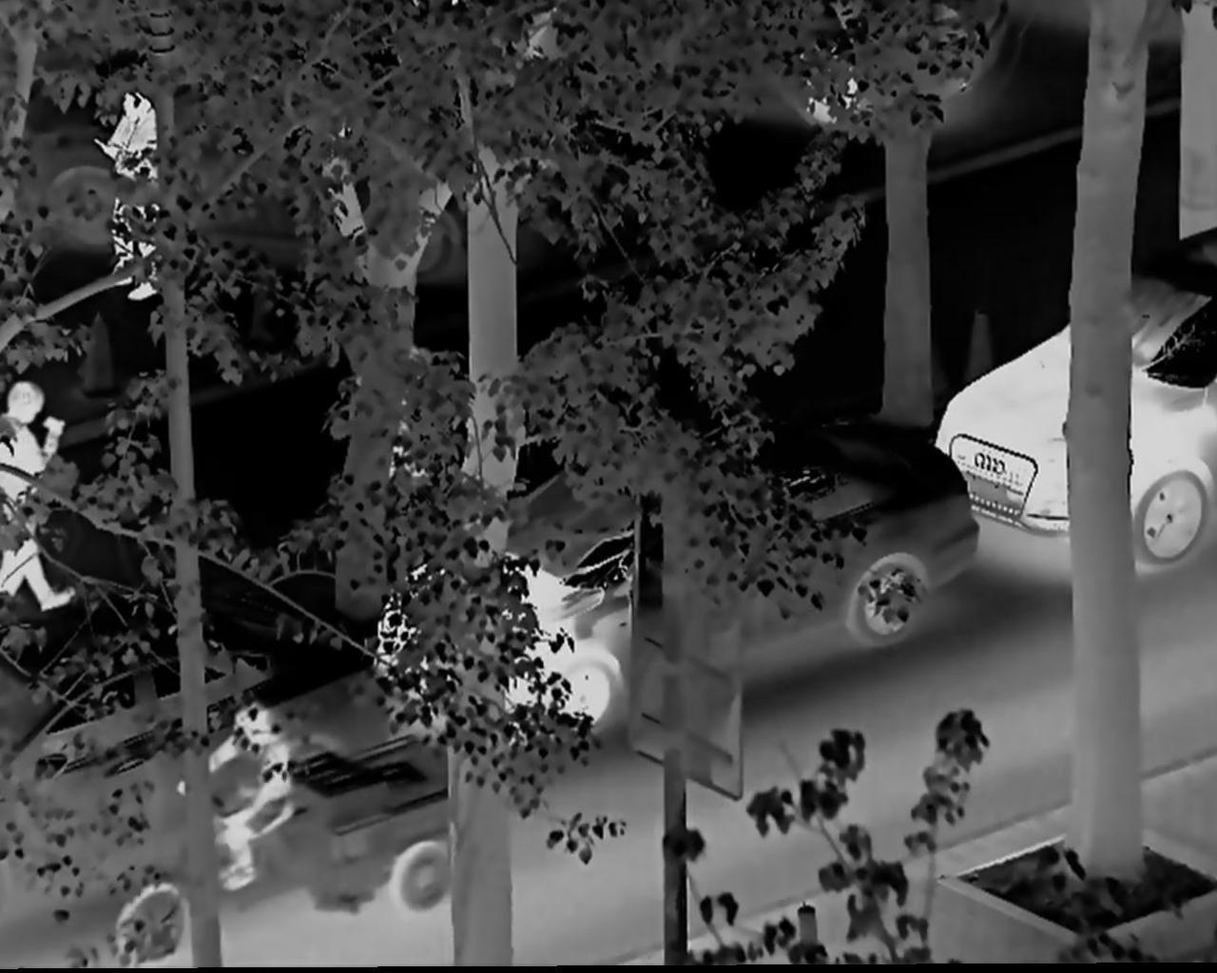person: (176, 702, 304, 904), (4, 370, 81, 620), (87, 86, 171, 300)
